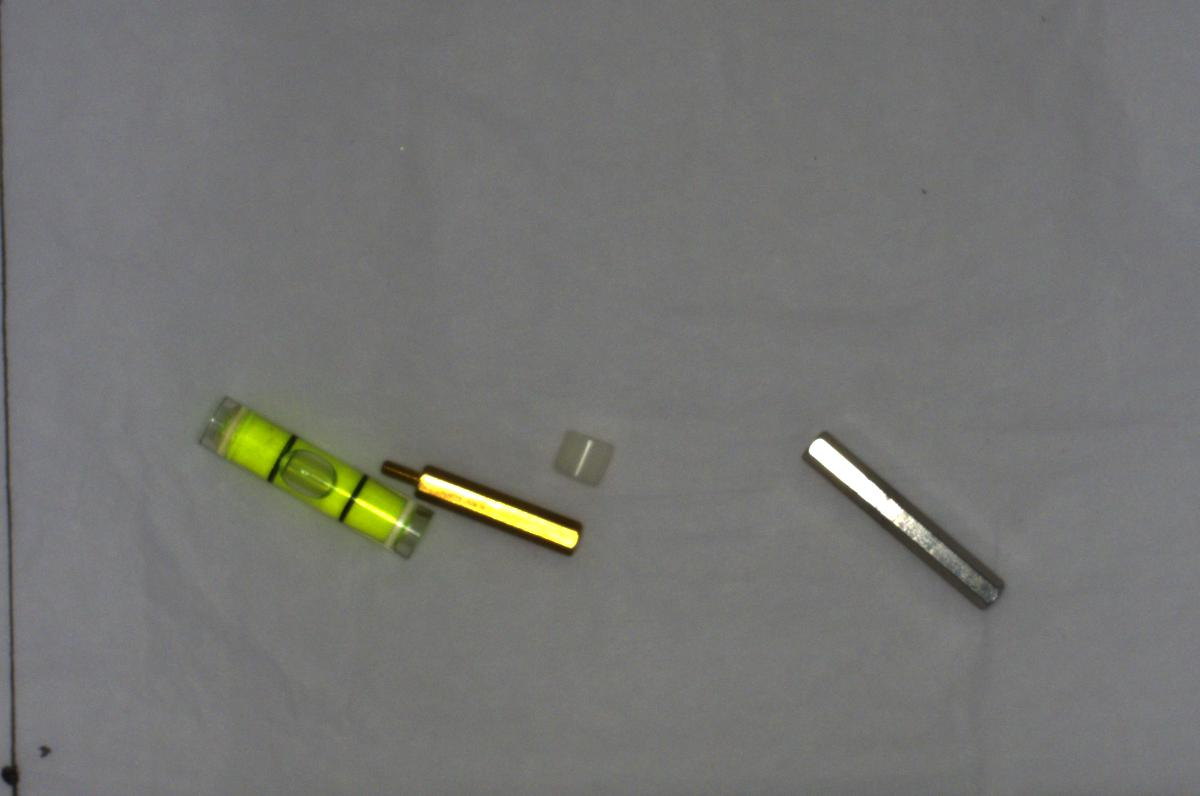Hexagon pillar: (368, 445, 585, 555)
Hexagonal steel column: (790, 426, 1017, 620)
Horizontal bubble: (184, 379, 434, 563)
Plastic cushion pillar: (542, 415, 620, 489)
